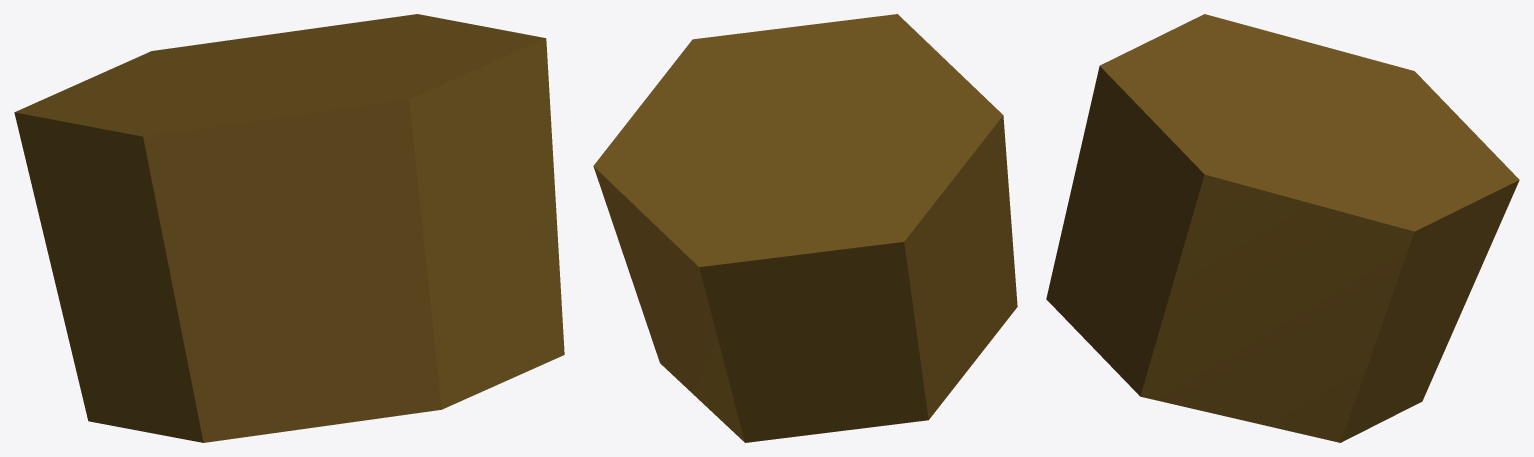
File: original-31.obj
3 renders of one model, left to right at view 1: azimuth 30°, elevation 25°; view 2: azimuth 150°, elevation 25°; view 3: azimuth 270°, elevation 25°, orthographic. The views are drawn at different scales.
Visible parts, largest first — view 1: mesh31/mesh31-geometry#mesh31-geometry; view 2: mesh31/mesh31-geometry#mesh31-geometry; view 3: mesh31/mesh31-geometry#mesh31-geometry.
Boxes of the visible parts, box(x1,y1,x2,y2) form: mesh31/mesh31-geometry#mesh31-geometry: box(14, 14, 564, 442); mesh31/mesh31-geometry#mesh31-geometry: box(593, 14, 1017, 442); mesh31/mesh31-geometry#mesh31-geometry: box(1046, 14, 1519, 442).
Bounding box in the file's own units: 0.1 × 0.0976 × 0.1247.
